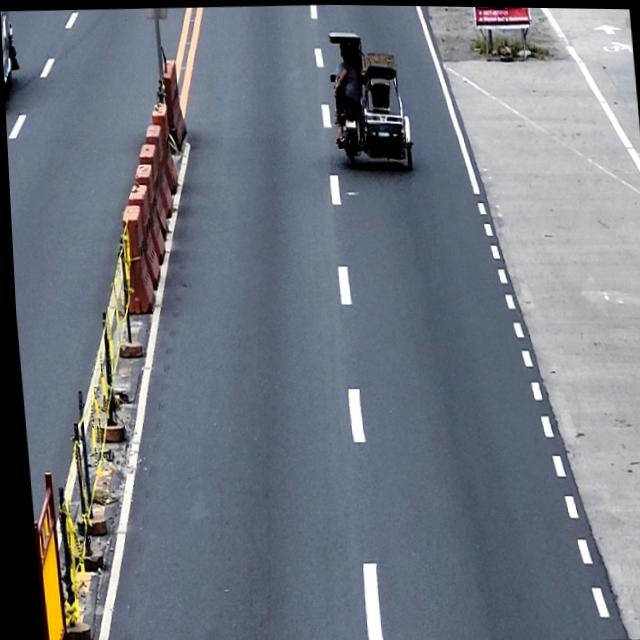License-Plate: (344, 117, 355, 127)
Tricycle: (324, 27, 413, 172)
